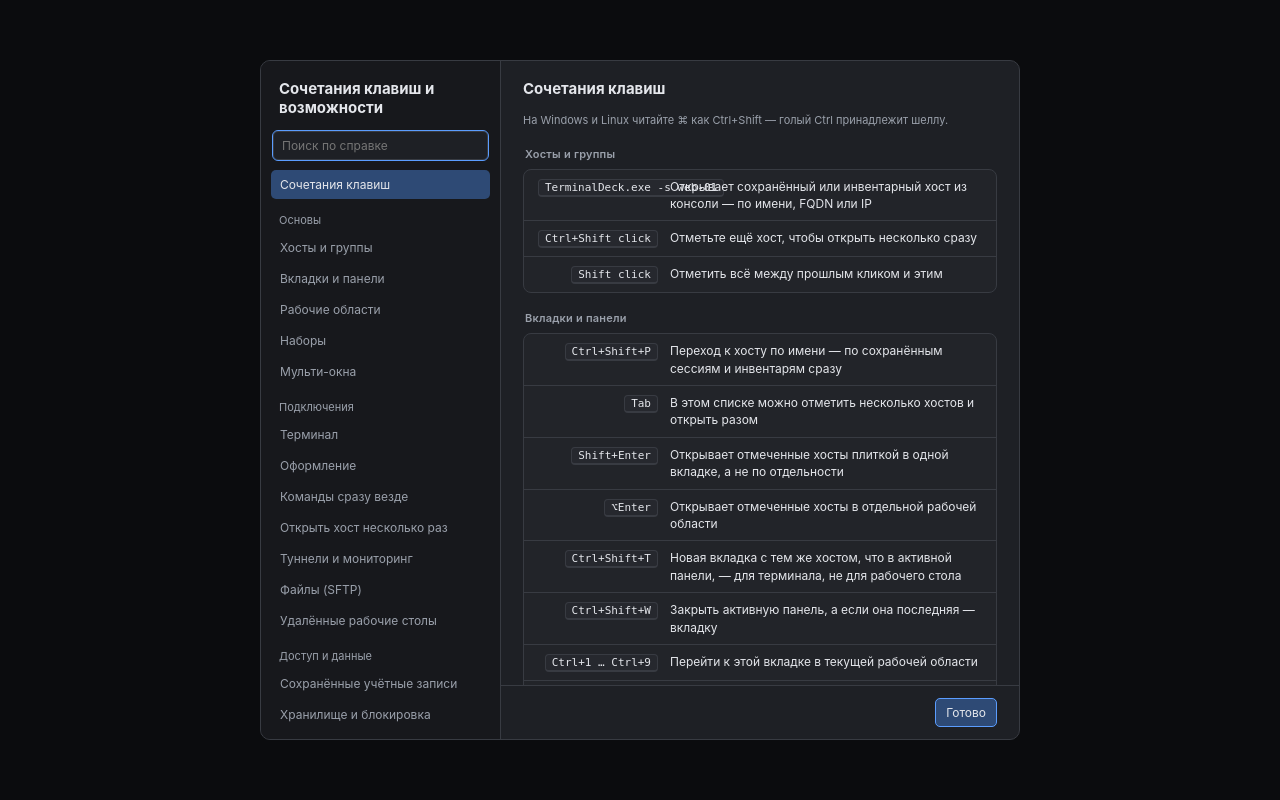
Scenario: finding your way round the help › searches every page, in the language it is read in
This screenshot has width=1280, height=800.
Step 1. Type "туннел" into the search field with placeholder "Поиск по справке" → (380, 146), box 273,131 -> 488,160
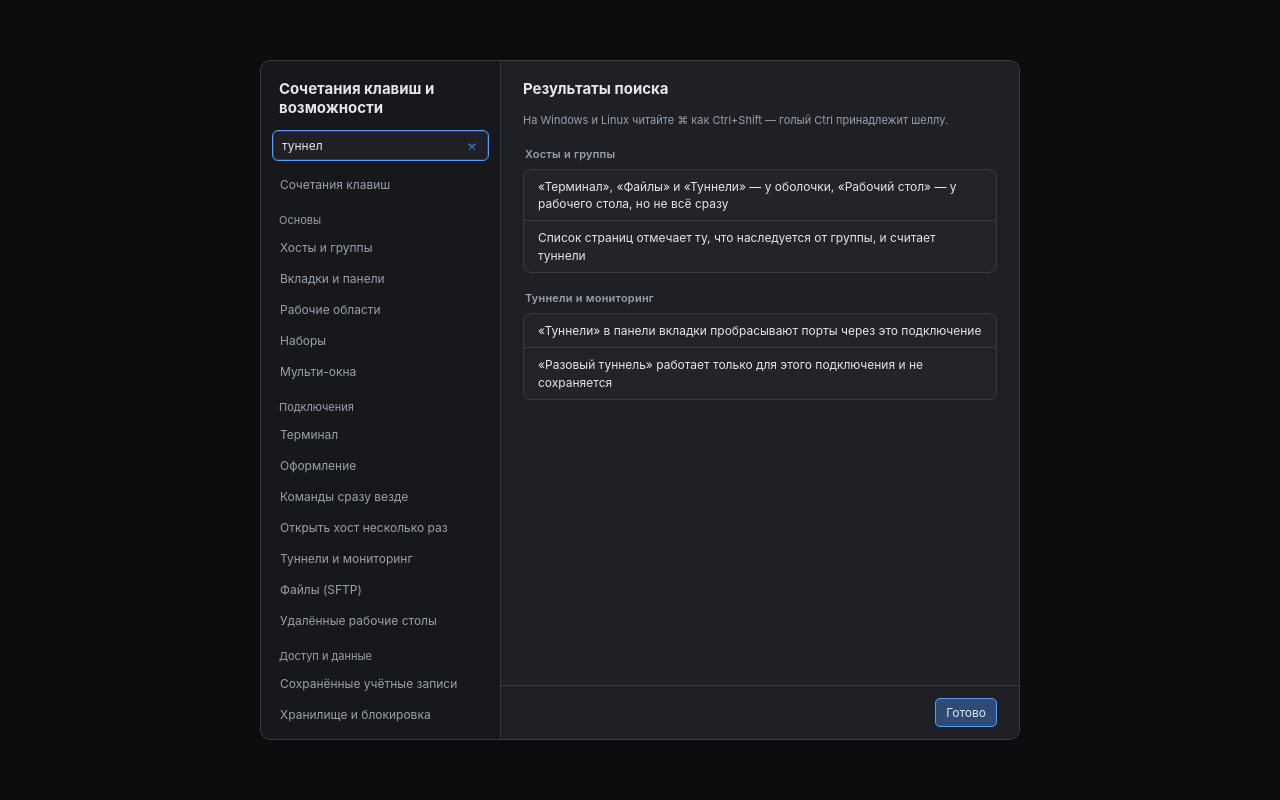
Expected: the button "Туннели и мониторинг" is shown, 271,544 -> 490,573
Now the heading "Результаты поиска" is shown, box 523,79 -> 668,98
Step 2. Replace the text in the search field with placeholder "Поиск по справке" with "zzzz" → (380, 146), box 273,131 -> 488,160
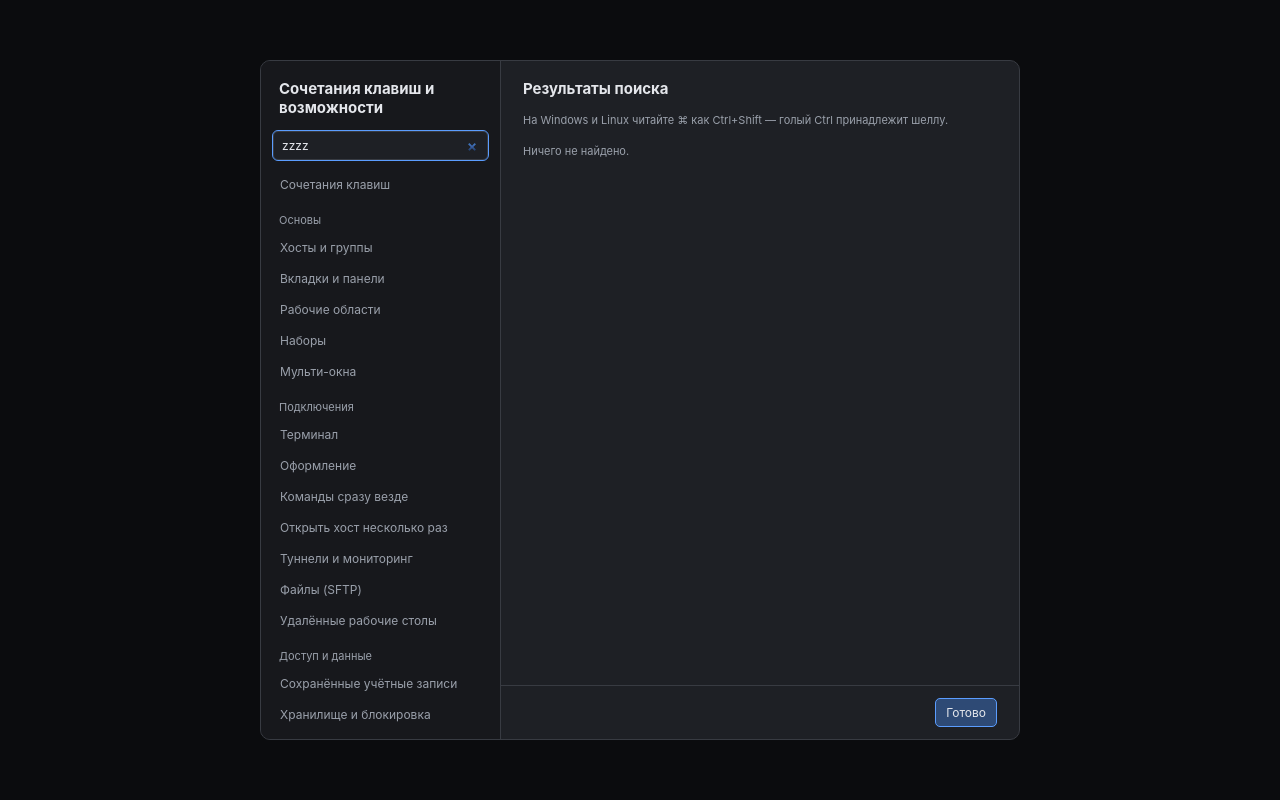
Now the text "Ничего не найдено." is shown, box 523,144 -> 629,158
